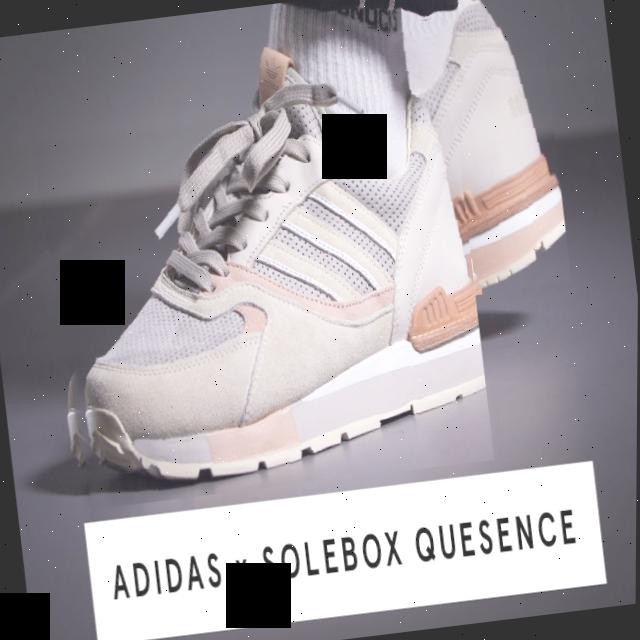shoe: (15, 14, 497, 512), (401, 0, 574, 300)
